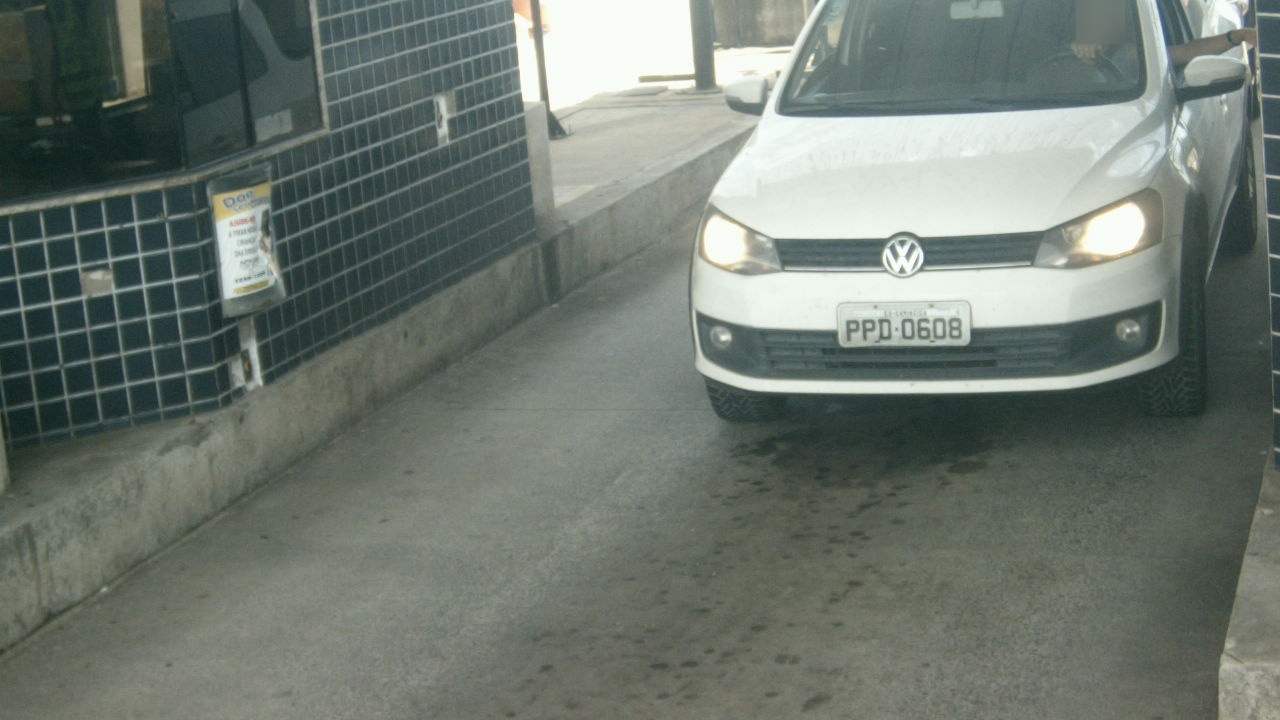placa: (837, 300, 972, 347)
